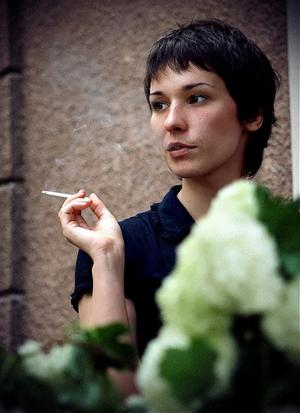person: (58, 19, 280, 402)
